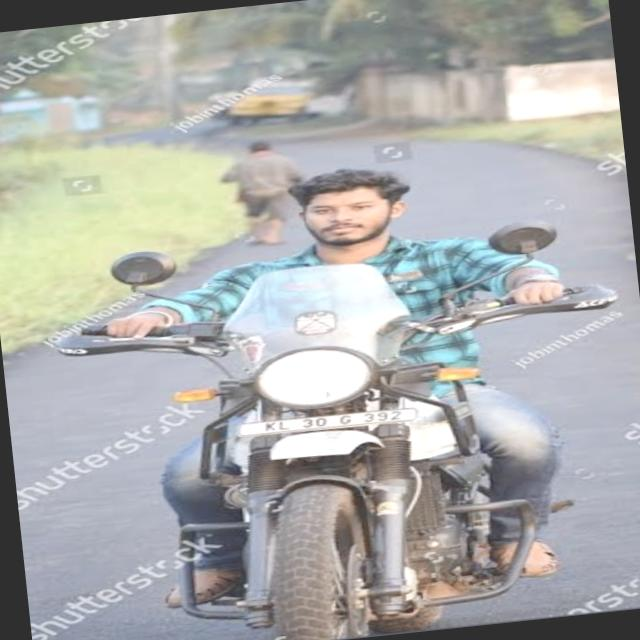WithoutHelmet: (89, 145, 596, 619)
